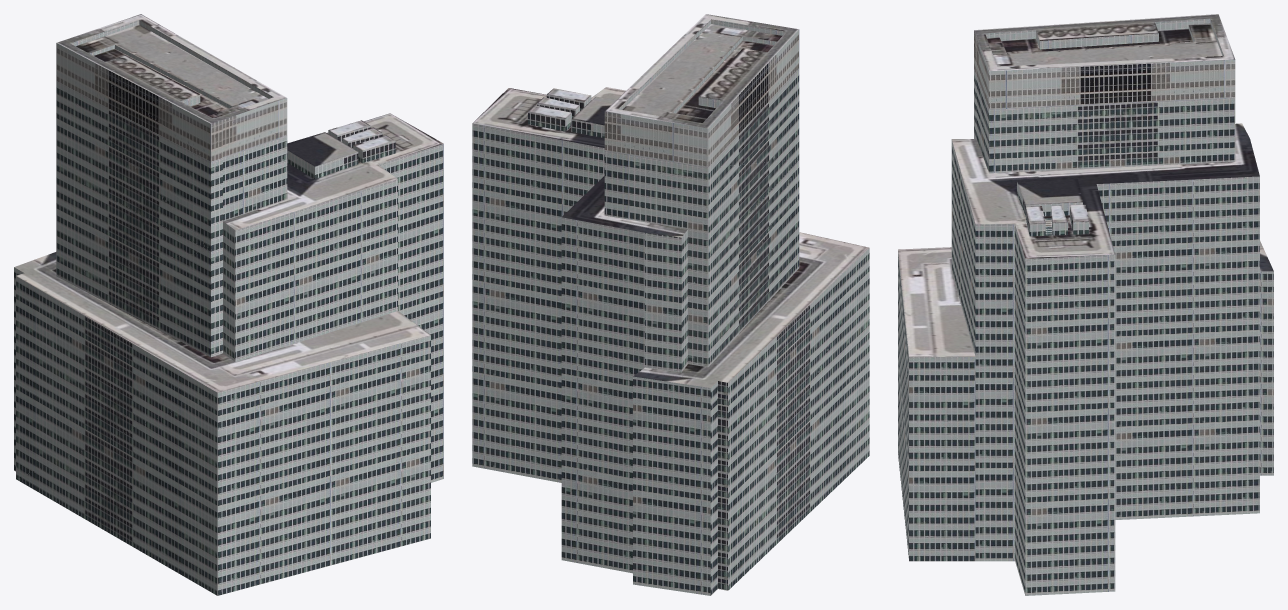
File: qeqe.fbx
3 views of the same model, side by side, from view 1: azimuth 30°, elevation 25°; view 2: azimuth 150°, elevation 25°; view 3: azimuth 270°, elevation 25° (orthographic). The views are drawn at different scales.
Parts seen in each view (by area): view 1: Model; view 2: Model; view 3: Model.
Boxes of the visible parts, bbox=[...] form: Model: bbox=[14, 14, 443, 595]; Model: bbox=[472, 14, 869, 595]; Model: bbox=[898, 14, 1273, 595].
Size of what is drawn, in the model's own units: 3870 by 5026 by 3901.
